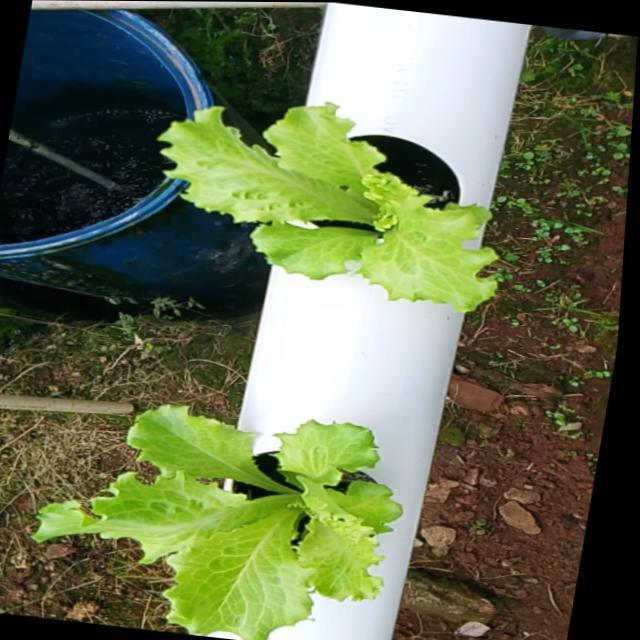Baby: (34, 394, 402, 636), (149, 84, 495, 295)
